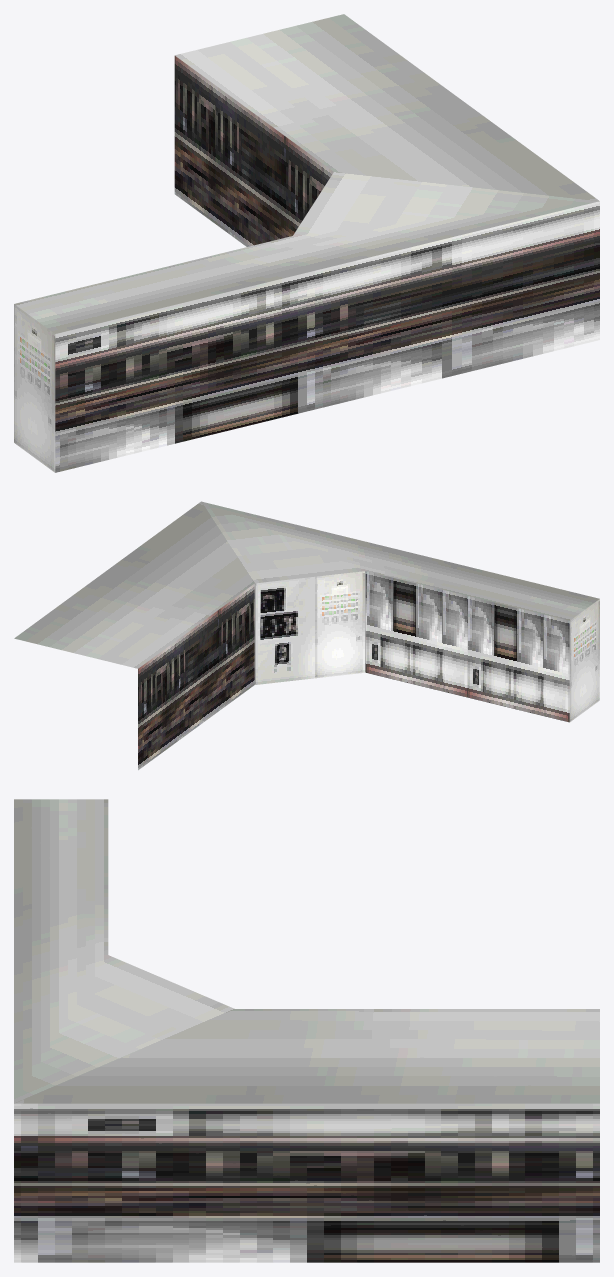
The model's file is CONTROL02.glb.
3 renders of one model, top to bottom at view 1: azimuth 30°, elevation 25°; view 2: azimuth 150°, elevation 25°; view 3: azimuth 270°, elevation 25°, orthographic. The views are drawn at different scales.
Visible parts, largest first — view 1: CONTROL02; view 2: CONTROL02; view 3: CONTROL02.
Part boxes in pixels (left/top/right/bottom): CONTROL02: left=14, top=14, right=599, bottom=472; CONTROL02: left=14, top=501, right=599, bottom=770; CONTROL02: left=14, top=799, right=599, bottom=1262.
Size of the model in its own units: 1139 by 277 by 926.
Materials: 2 (2 with a texture image).
